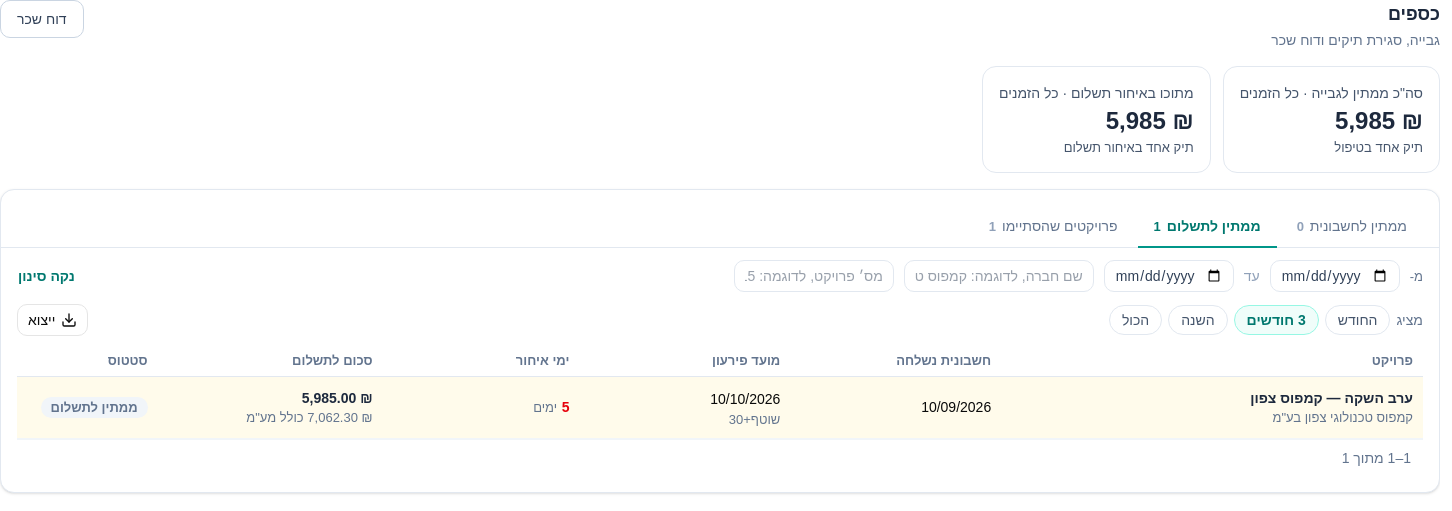
Scenario: S1 — תיק מארוכב אינו מבקש טיפול › ציון נמוך על שורה מארוכבת אינו מייצר שורת-בירור ואינו צובע ענבר
This screenshot has width=1452, height=511.
Expected: the table with test id "finance-table" is shown, [17, 346, 1423, 439]
Click the tab with test id "finance-tab-finished" at (1053, 227), box [973, 206, 1134, 248]
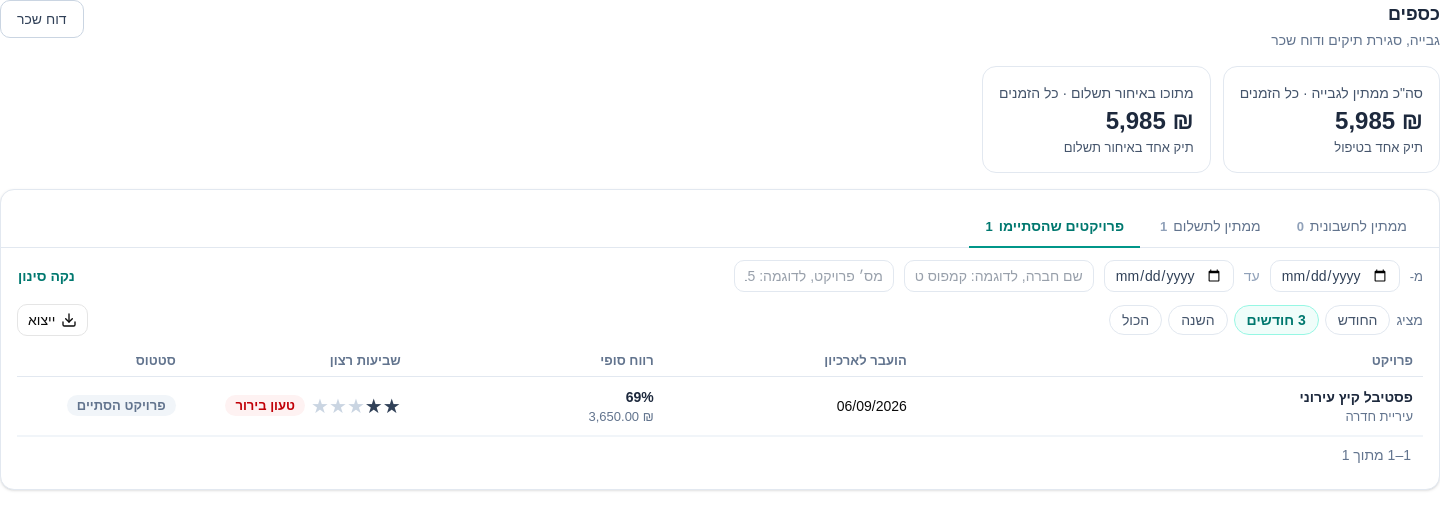
Expected: the row with test id "finance-row-13" does not show "נדרש בירור טלפוני", [17, 376, 1423, 436]
Result: the row with test id "finance-row-13" shows "טעון בירור" at [235, 398, 295, 413]
